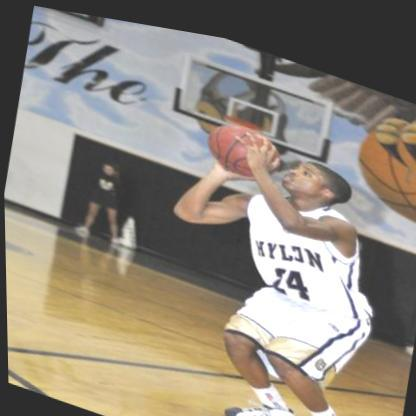basketball: (204, 106, 283, 180)
